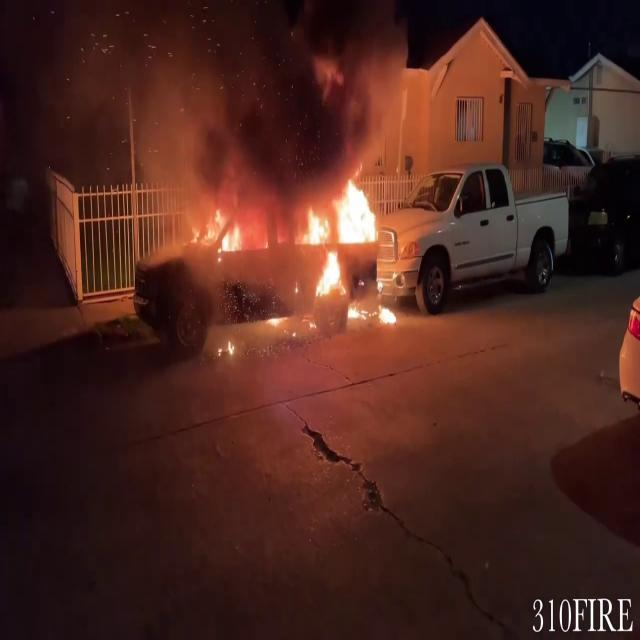Fire: (300, 173, 394, 304), (199, 204, 247, 256)
Smoke: (94, 0, 423, 208)
